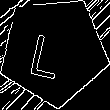L_N: (33, 23, 74, 79)
